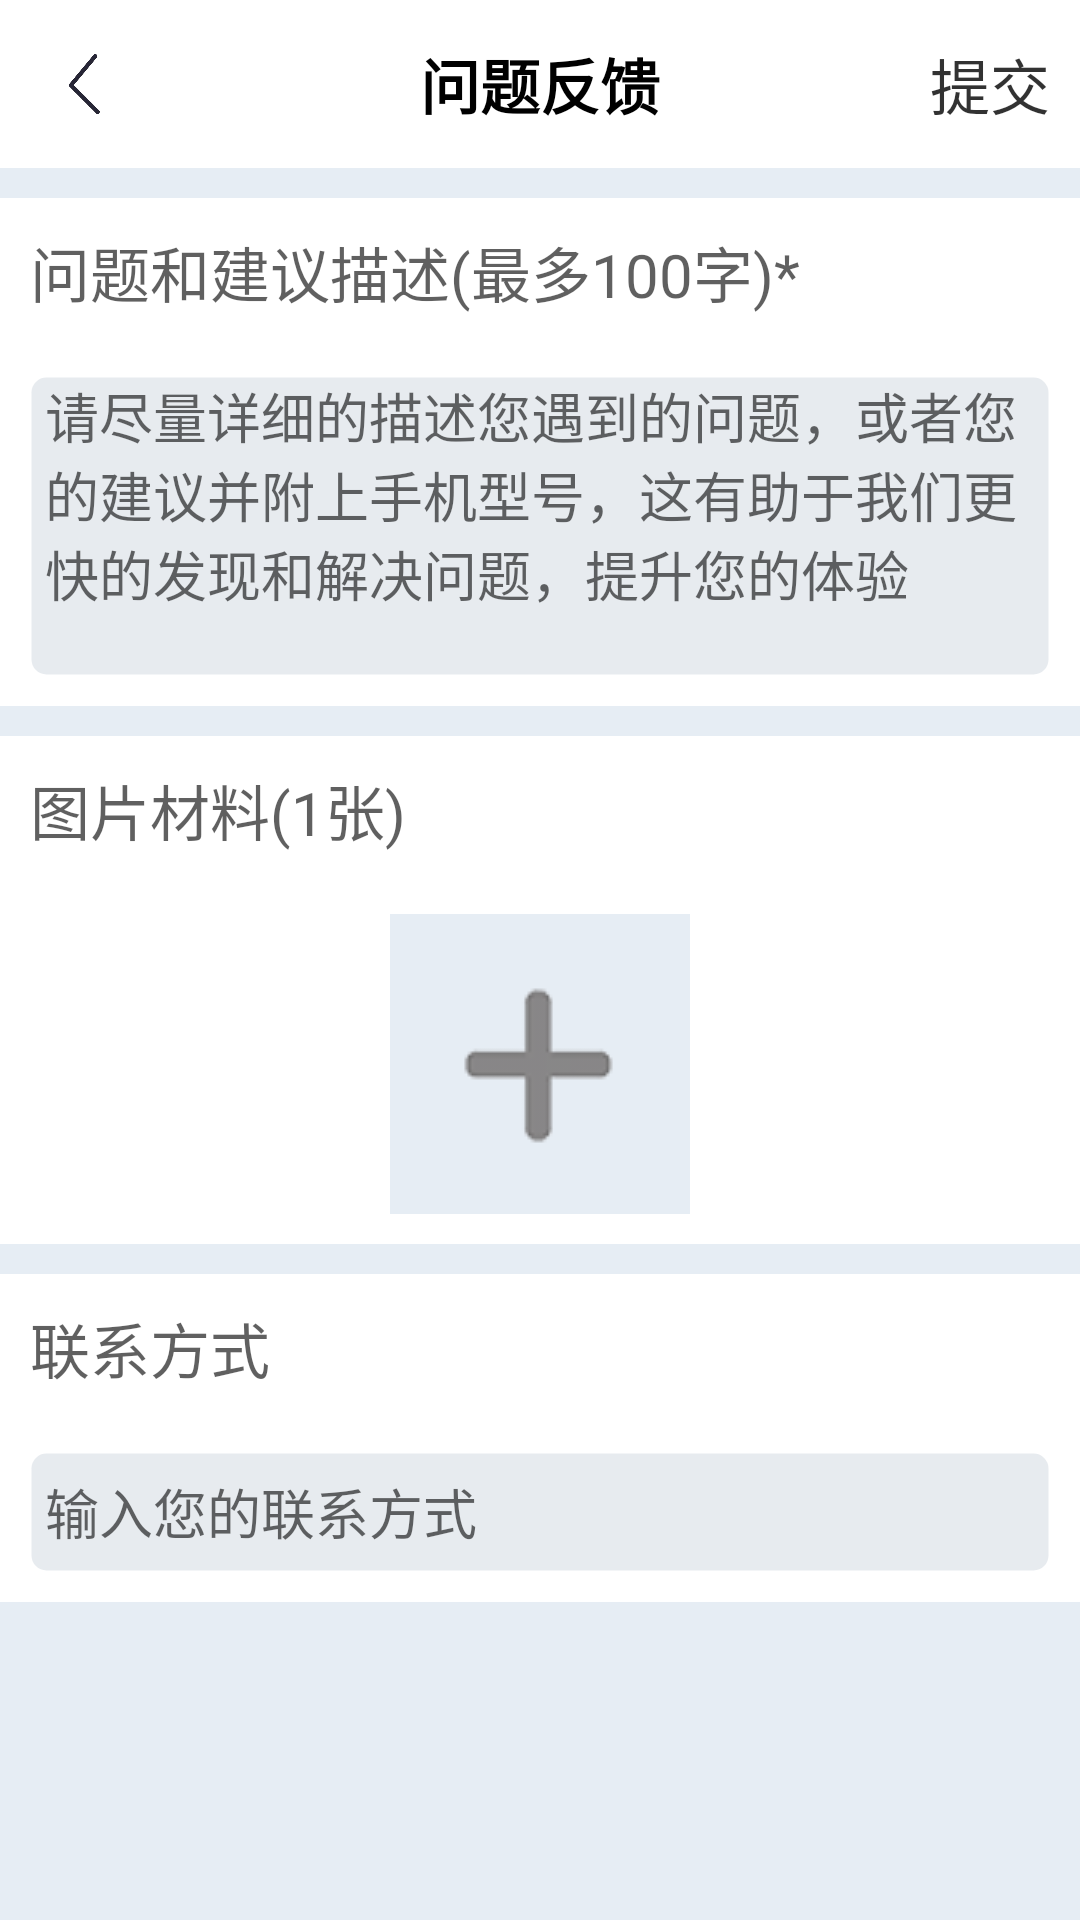

Point at icon controls on the screen. Image size 1080×1920, points as (x,y).
add: (540,1064)
back: (84,84)
